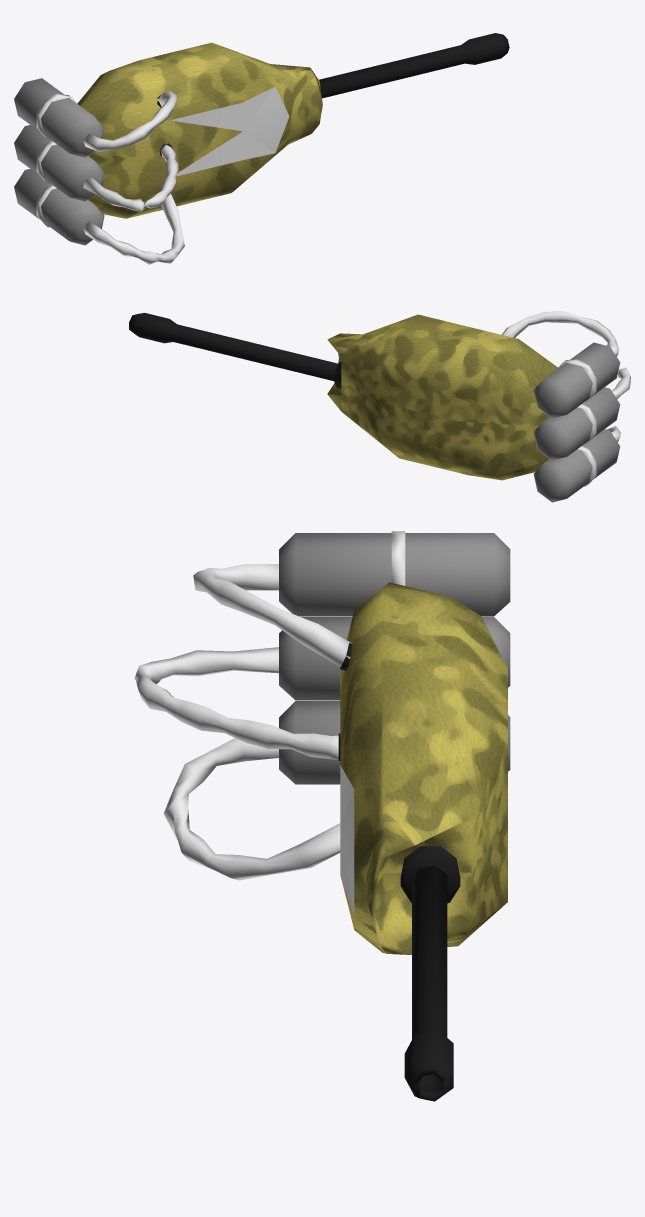
The model's file is Flamethrower.fbx.
3 views of the same model, one above another, from view 1: azimuth 30°, elevation 25°; view 2: azimuth 150°, elevation 25°; view 3: azimuth 270°, elevation 25° (orthographic). The views are drawn at different scales.
Visible parts, largest first — view 1: Body0, Color1, Hose03_None.001, Hose03_None.002; view 2: Body0, Hose03_None.001, Hose03_None.002, Color1; view 3: Body0, Hose03_None.001, Color1, Hose03_None.002.
Part boxes in pixels (bbox=[...]): Body0: bbox=[77, 42, 322, 218]; Color1: bbox=[36, 86, 289, 264]; Hose03_None.001: bbox=[14, 78, 104, 245]; Hose03_None.002: bbox=[157, 33, 509, 193]; Body0: bbox=[327, 314, 557, 480]; Hose03_None.001: bbox=[533, 342, 620, 502]; Hose03_None.002: bbox=[129, 313, 341, 388]; Color1: bbox=[501, 311, 630, 486]; Body0: bbox=[340, 582, 507, 954]; Hose03_None.001: bbox=[279, 533, 510, 784]; Color1: bbox=[134, 531, 405, 916]; Hose03_None.002: bbox=[338, 643, 460, 1101].
Bounding box in the file's own units: 113 × 26.65 × 32.19.
3 materials, 3 textured.
